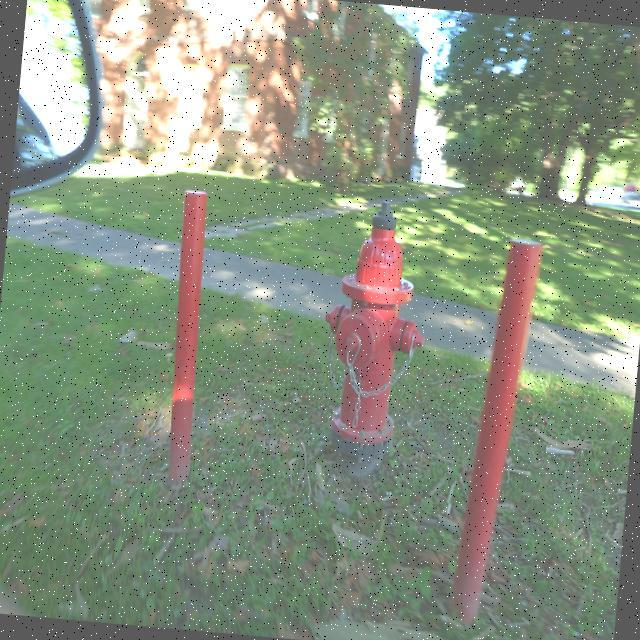fire_hydrant: (313, 197, 437, 462)
